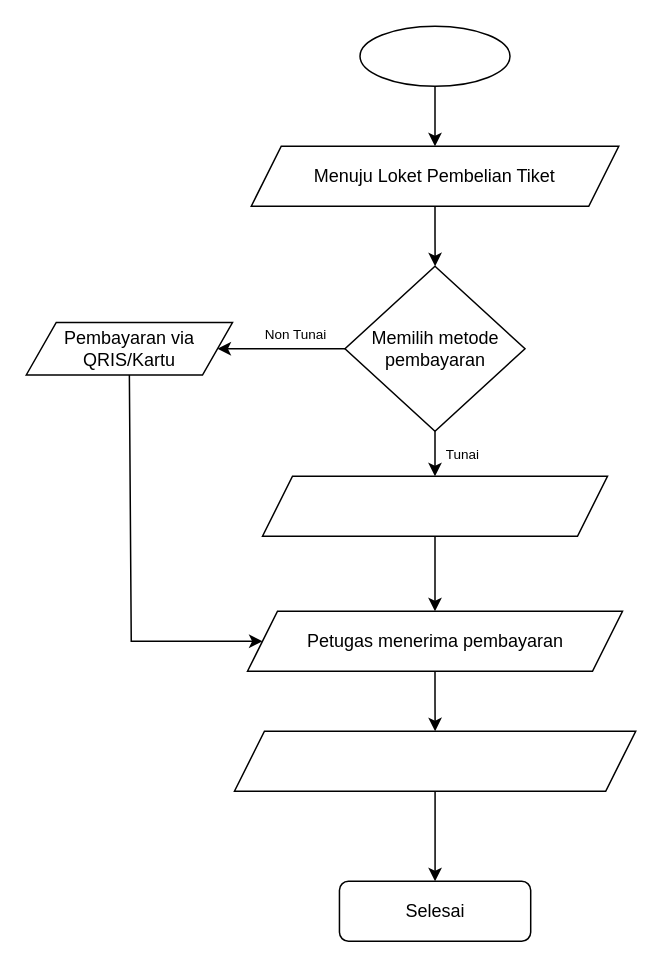
This 663x968 diagram has some shape labels left out. Here are the shapes that lost their labels. From the top down, the centre of each, then its label:
At (434,55): "Mulai".
At (434,505): "Memberikan uang tunai".
At (434,760): "Mendapatkan tiket".
